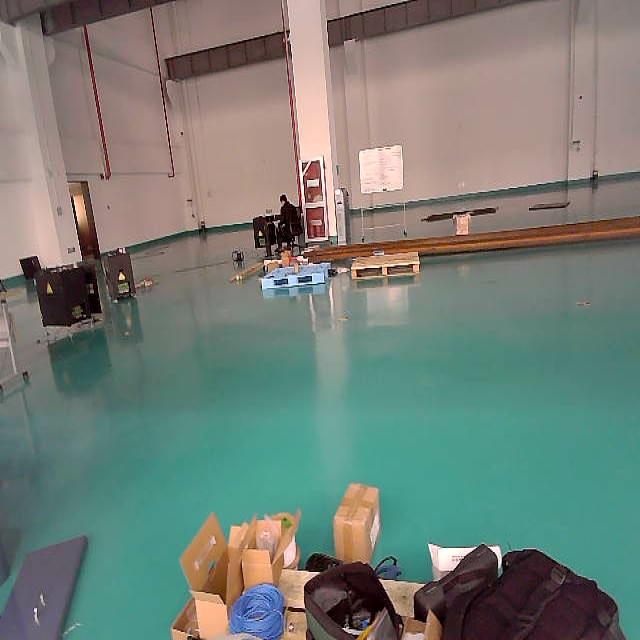euro: (349, 248, 421, 282)
